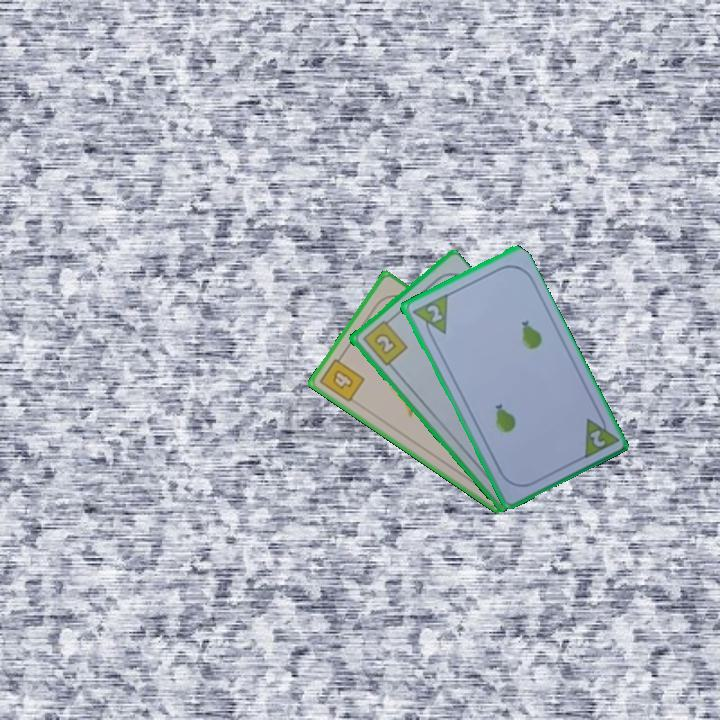2b: (359, 314, 410, 368)
2p: (578, 408, 620, 462), (423, 301, 445, 325)
4b: (316, 350, 368, 405)
